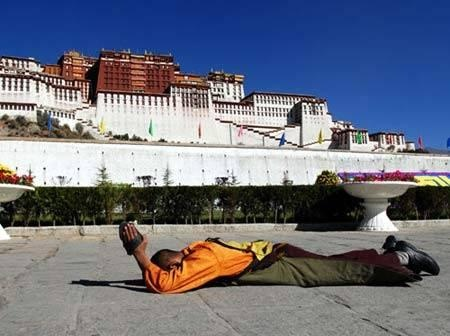falling: (117, 222, 435, 293)
